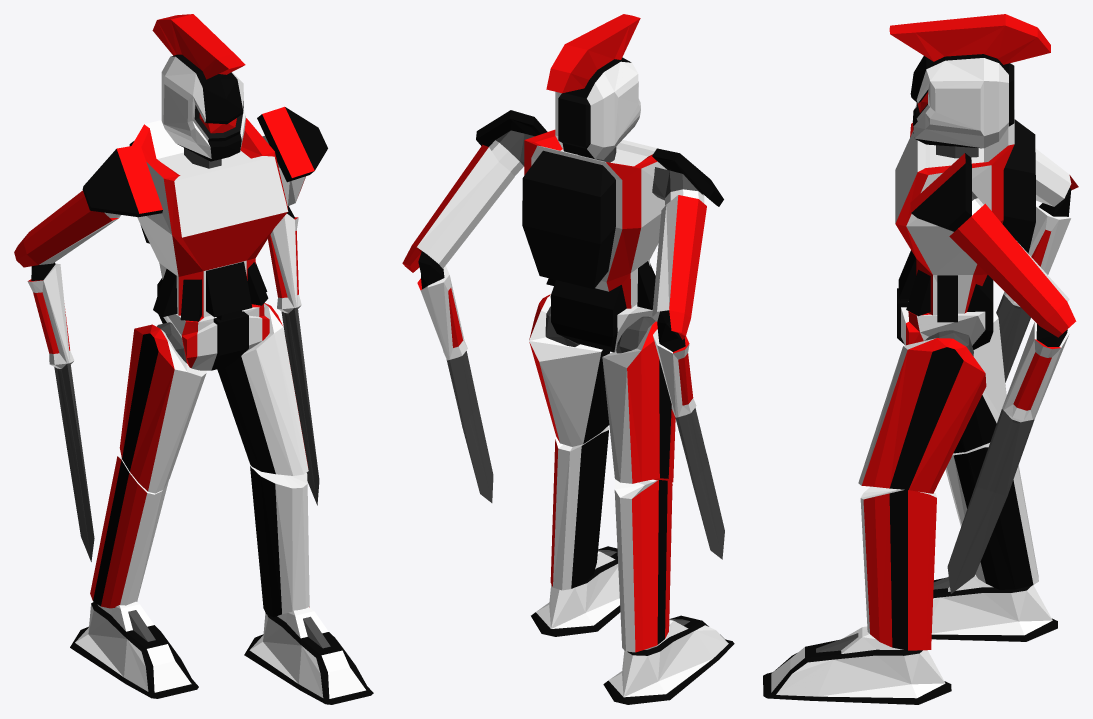
File: robots_000018.obj
The picture shows the model from 3 angles, left to right: view 1: azimuth 30°, elevation 25°; view 2: azimuth 150°, elevation 25°; view 3: azimuth 270°, elevation 25°; orthographic projection. The views are drawn at different scales.
Parts seen in each view (by area): view 1: Chest_plate_Cube.004, Head_gladiator_Cube.024, R_Forearm.001_Cube.028, R_Thigh_Cube.005, R_Thigh.002_Cube.027, R_Shin.002_Cube.029, R_Foot_Cube, R_Foot.002_Cube.035, R_Shin_Cube.007, R_Forearm.002_Cube.033, Pelvis_Cube.006, R_Arm.002_Cube.032 (+1 smaller); view 2: Chest_plate_Cube.004, R_Forearm.002_Cube.033, R_Forearm.001_Cube.028, Head_gladiator_Cube.024, R_Shin_Cube.007, R_Thigh_Cube.005, R_Shin.002_Cube.029, R_Thigh.002_Cube.027, R_Foot_Cube, Pelvis_Cube.006, R_Foot.002_Cube.035, R_Arm.002_Cube.032 (+2 smaller); view 3: R_Forearm.002_Cube.033, Chest_plate_Cube.004, Head_gladiator_Cube.024, R_Thigh.002_Cube.027, R_Shin.002_Cube.029, R_Foot.002_Cube.035, R_Foot_Cube, R_Shin_Cube.007, R_Forearm.001_Cube.028, Pelvis_Cube.006, R_Arm.003_Cube.034, R_Thigh_Cube.005.
Boxes of the visible parts, <box> form: Chest_plate_Cube.004: <box>129,118,288,321</box>; Head_gladiator_Cube.024: <box>152,14,245,161</box>; R_Forearm.001_Cube.028: <box>14,190,120,561</box>; R_Thigh_Cube.005: <box>119,324,206,493</box>; R_Thigh.002_Cube.027: <box>217,303,308,475</box>; R_Shin.002_Cube.029: <box>250,464,309,617</box>; R_Foot_Cube: <box>70,601,198,698</box>; R_Foot.002_Cube.035: <box>244,607,373,704</box>; R_Shin_Cube.007: <box>90,456,168,608</box>; R_Forearm.002_Cube.033: <box>267,170,319,505</box>; Pelvis_Cube.006: <box>157,278,269,370</box>; R_Arm.002_Cube.032: <box>82,144,162,217</box>; Chest_plate_Cube.004: <box>522,129,666,309</box>; R_Forearm.002_Cube.033: <box>402,144,514,502</box>; R_Forearm.001_Cube.028: <box>652,195,724,559</box>; Head_gladiator_Cube.024: <box>546,14,640,159</box>; R_Shin_Cube.007: <box>614,479,672,652</box>; R_Thigh_Cube.005: <box>602,321,675,483</box>; R_Shin.002_Cube.029: <box>550,426,608,590</box>; R_Thigh.002_Cube.027: <box>529,294,609,446</box>; R_Foot_Cube: <box>603,615,734,704</box>; Pelvis_Cube.006: <box>550,280,652,352</box>; R_Foot.002_Cube.035: <box>531,546,620,636</box>; R_Arm.002_Cube.032: <box>652,148,723,206</box>; R_Forearm.002_Cube.033: <box>947,203,1076,593</box>; Chest_plate_Cube.004: <box>895,110,1035,322</box>; Head_gladiator_Cube.024: <box>889,14,1050,148</box>; R_Thigh.002_Cube.027: <box>858,338,986,493</box>; R_Shin.002_Cube.029: <box>860,486,936,650</box>; R_Foot.002_Cube.035: <box>763,626,951,704</box>; R_Foot_Cube: <box>931,575,1057,641</box>; R_Shin_Cube.007: <box>945,443,1038,589</box>; R_Forearm.001_Cube.028: <box>996,148,1078,382</box>; Pelvis_Cube.006: <box>897,275,993,349</box>; R_Arm.003_Cube.034: <box>910,153,983,231</box>; R_Thigh_Cube.005: <box>953,307,1006,453</box>.
Size of the model in its own units: 1.51 by 3.17 by 1.42.
